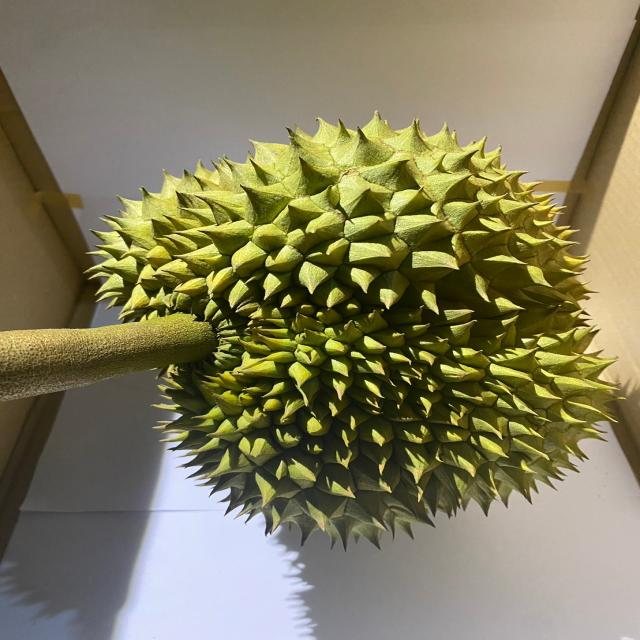immature: (79, 110, 624, 549)
